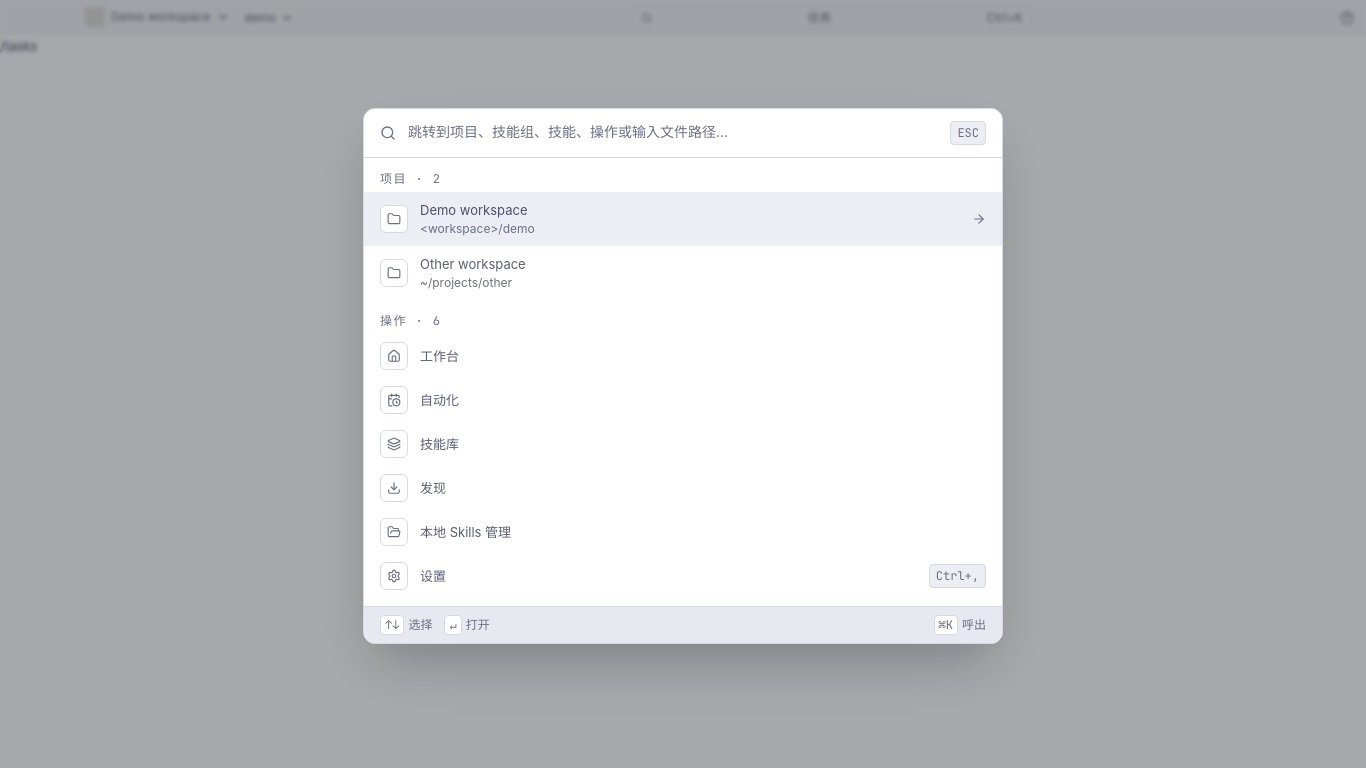
it: keeps the keyboard shortcut and command selection working
Click the option "Demo workspace <workspace>/demo" at (474,210), box x1=364 y1=192 x2=1002 y2=246
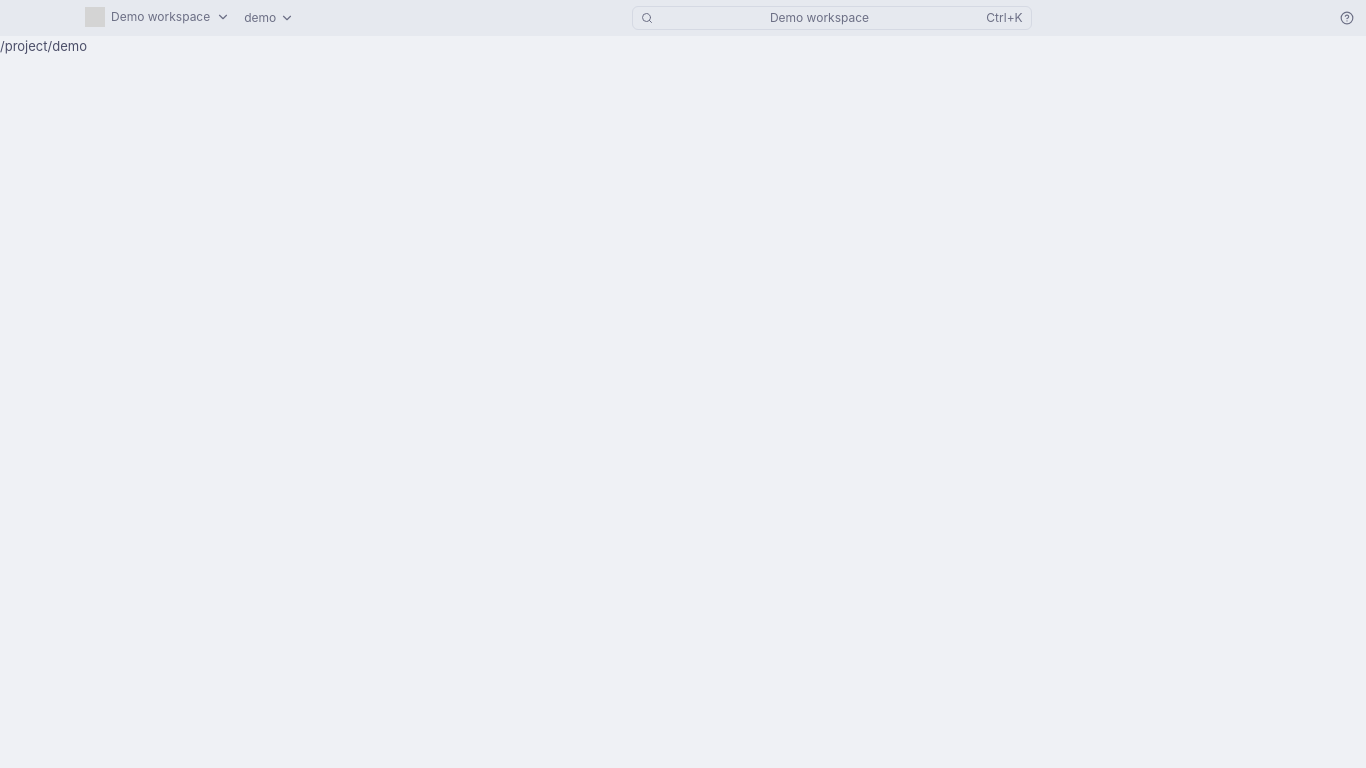
Expected: the text "/project/demo" is shown, x1=0 y1=38 x2=87 y2=54
Expected: the button with aria-label "搜索与命令" shows "Demo workspace", x1=632 y1=6 x2=1032 y2=30
Expected: the dialog is gone
